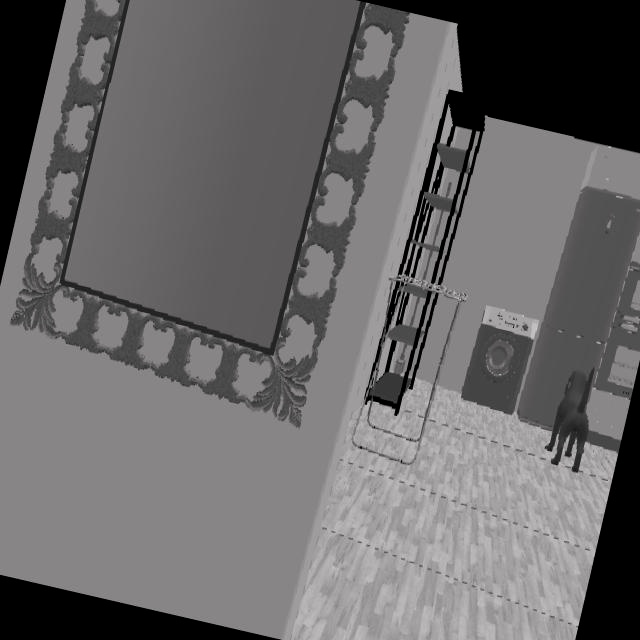cabinet: (579, 144, 640, 201)
fridge: (517, 184, 640, 427)
microwave: (618, 267, 640, 328)
oven: (595, 320, 640, 401)
shelf: (370, 90, 485, 415)
